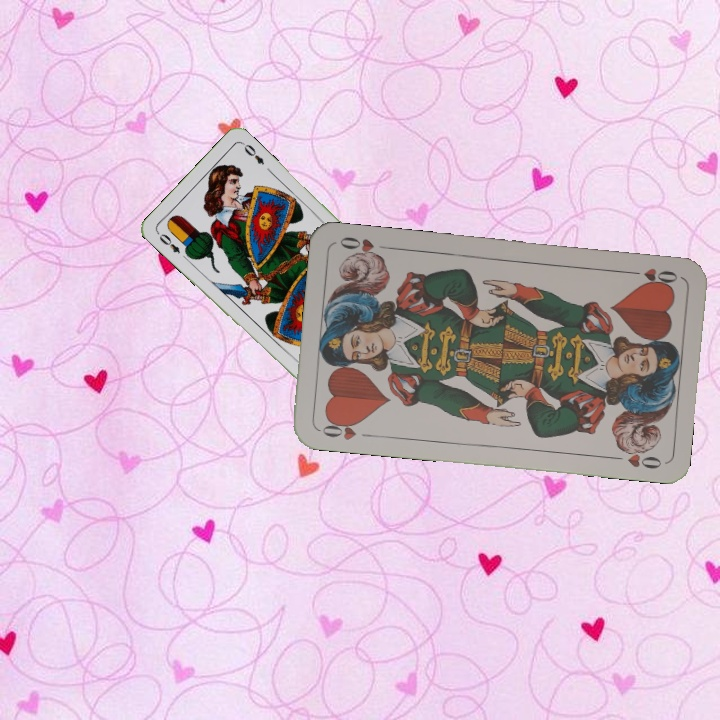EO: (153, 228, 183, 256)
HO: (316, 415, 375, 442), (623, 264, 681, 289)
